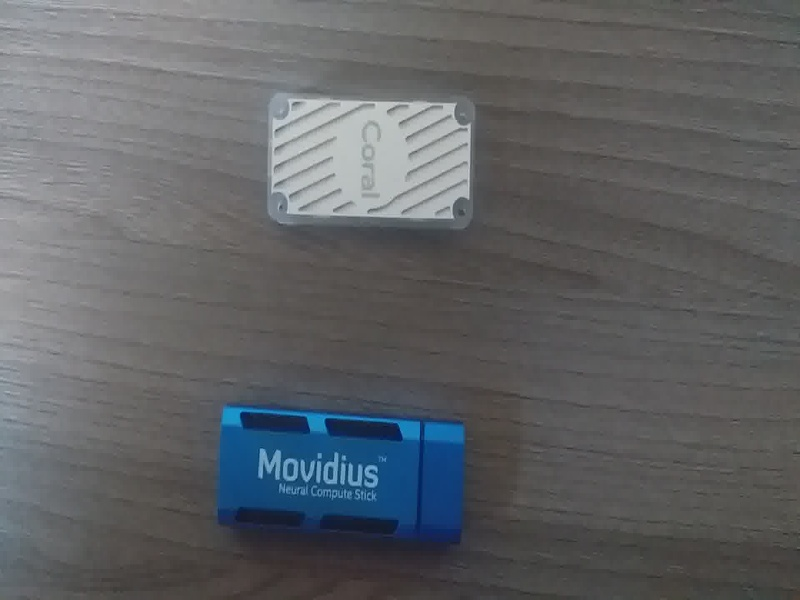coral: (251, 86, 491, 246)
movidius: (210, 398, 483, 553)
